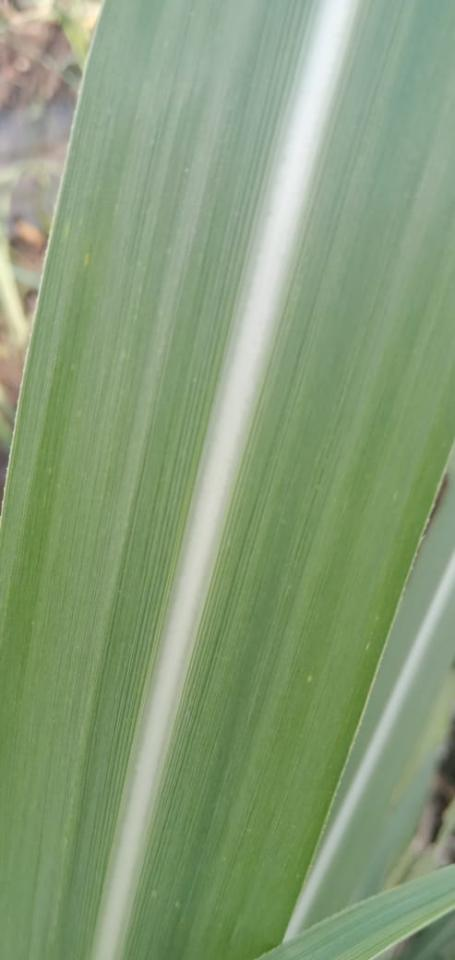Healthy: (122, 0, 454, 959), (0, 0, 318, 959), (310, 478, 454, 871), (297, 584, 454, 939), (259, 867, 454, 959)
